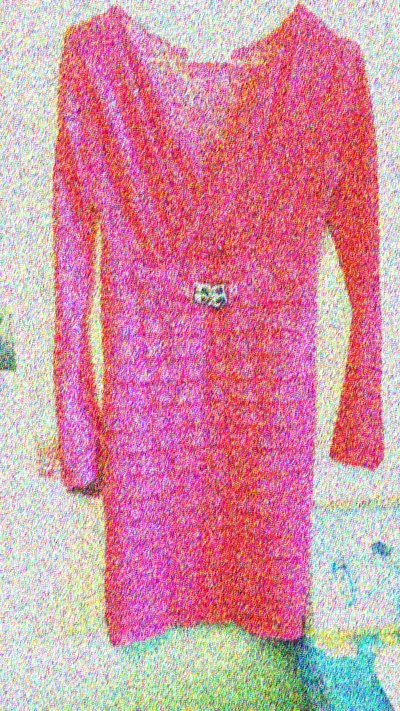Dress: (17, 11, 386, 683)
